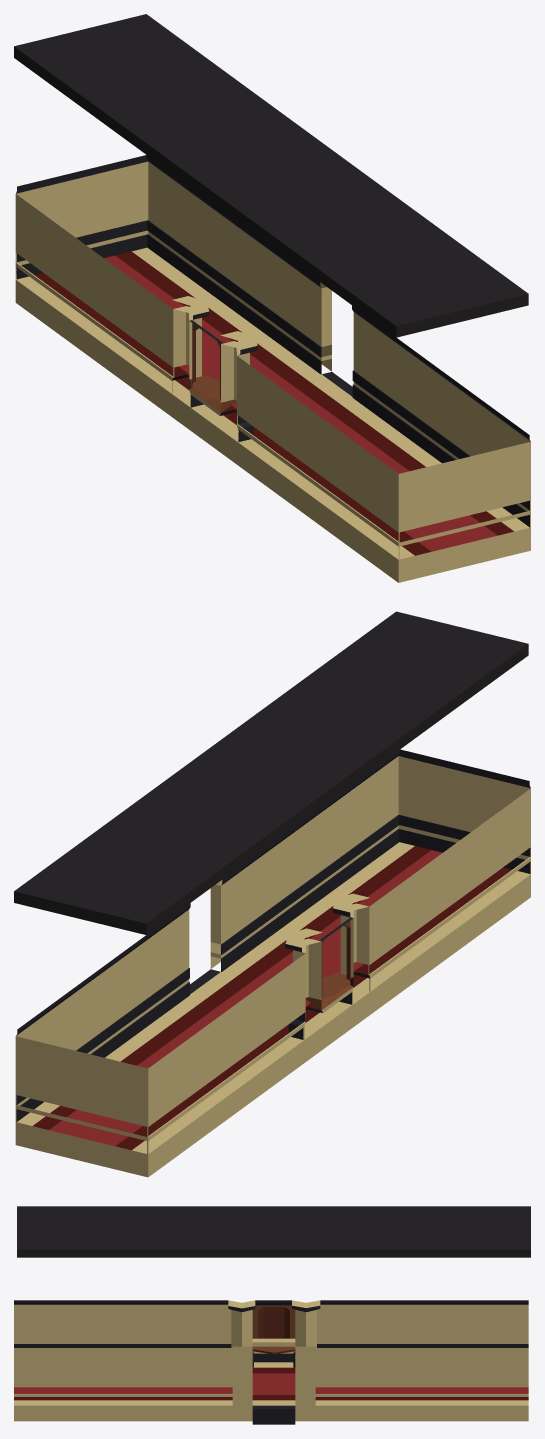
Rendered from floorHallwayAndCeiling.fbx.
The picture shows the model from 3 angles, top to bottom: view 1: azimuth 30°, elevation 25°; view 2: azimuth 150°, elevation 25°; view 3: azimuth 270°, elevation 25°; orthographic projection. The views are drawn at different scales.
Visible parts, largest first — view 1: Cube, Cube.001; view 2: Cube, Cube.001; view 3: Cube, Cube.001.
Boxes of the visible parts, <box> form: Cube: <box>15,155,530,582</box>; Cube.001: <box>14,14,528,337</box>; Cube: <box>15,749,530,1177</box>; Cube.001: <box>14,611,528,934</box>; Cube: <box>14,1300,528,1424</box>; Cube.001: <box>17,1206,530,1257</box>.
Bounding box in the file's own units: 335 × 552 × 1509.
